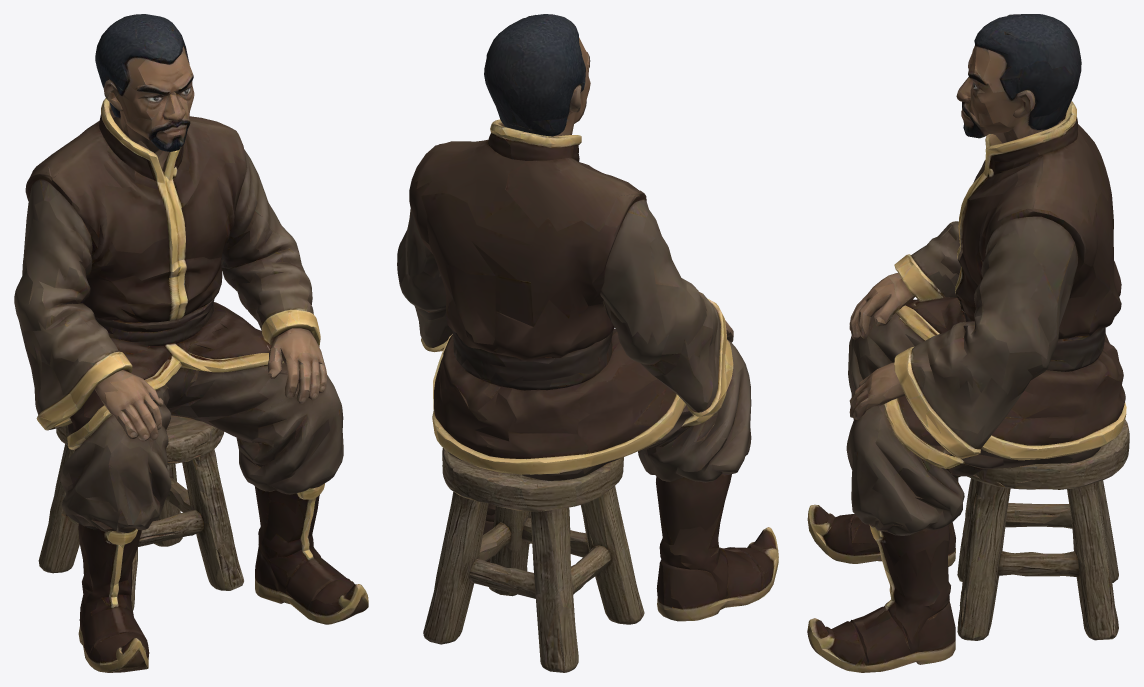
File: piandao.glb
3 views of the same model, side by side, from view 1: azimuth 30°, elevation 25°; view 2: azimuth 150°, elevation 25°; view 3: azimuth 270°, elevation 25° (orthographic). The views are drawn at different scales.
Visible parts, largest first — view 1: Mesh_0; view 2: Mesh_0; view 3: Mesh_0.
Part boxes in pixels (x1,y1,x2,y2): Mesh_0: (14, 14, 368, 672); Mesh_0: (397, 14, 778, 672); Mesh_0: (807, 14, 1129, 672).
Size of the model in its own units: 0.9708 by 1.9 by 0.9442.
Materials: 1 (1 with a texture image).
